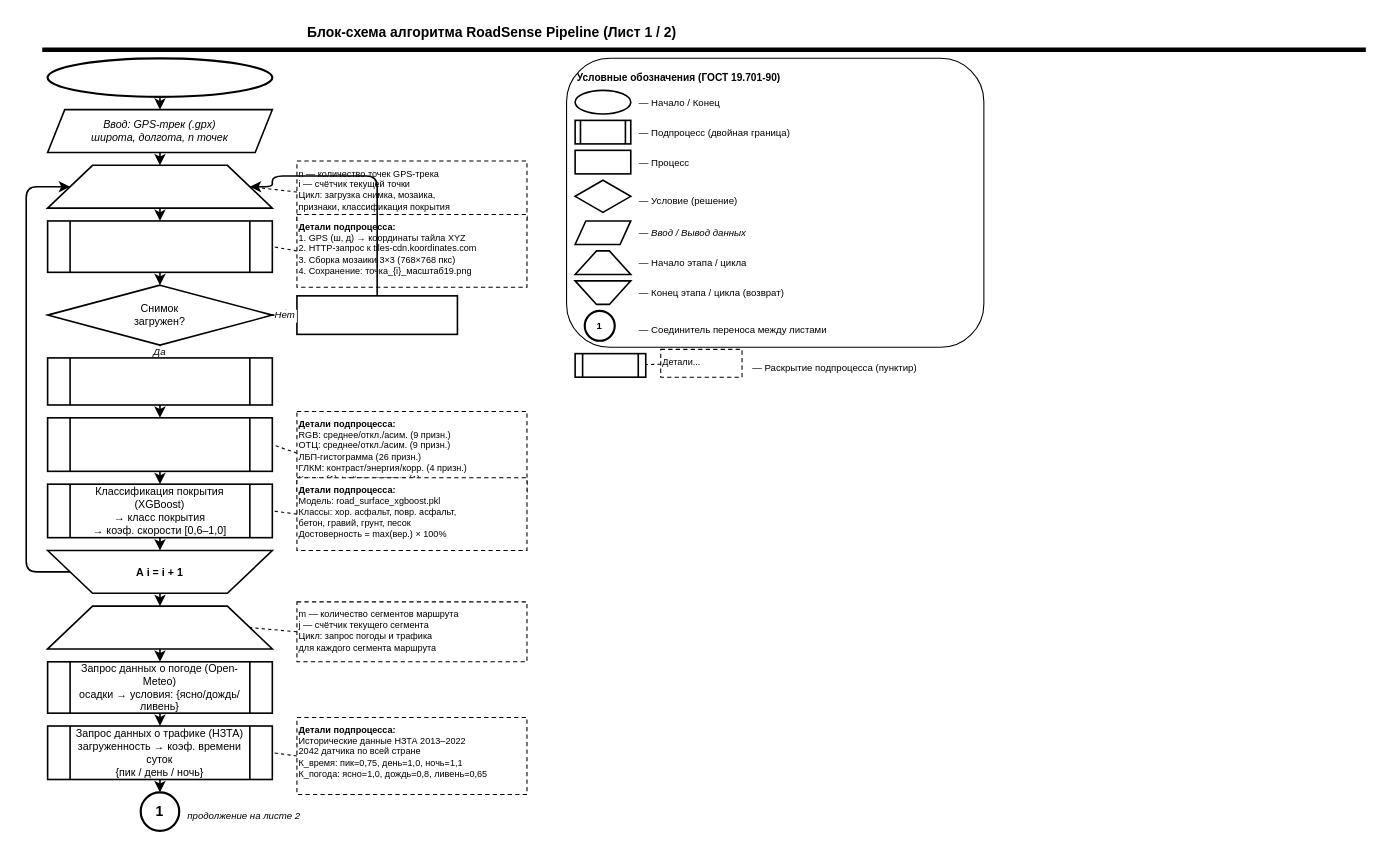
This 1387x850 diagram has some shape labels left out. The centre of each missing label's shape, as x and y in pixels:
"А пока i < n" goes at (x=159, y=186).
"Б пока j < m" goes at (x=159, y=627).
"Загрузка спутниковых снимков LINZ API, масштаб 18–19 координаты → тайлы XYZ" goes at (x=159, y=246).
"Извлечение признаков RGB · ОТЦ · ЛБП · ГЛКМ Кэнни · тёмные пятна (50 призн.)" goes at (x=159, y=444).
"Начало" goes at (x=159, y=77).
"Пропуск точки → следующая" goes at (x=377, y=315).
"Формирование мозаики 3×3 768×768 пкс, кэш[ключ]" goes at (x=159, y=381).
